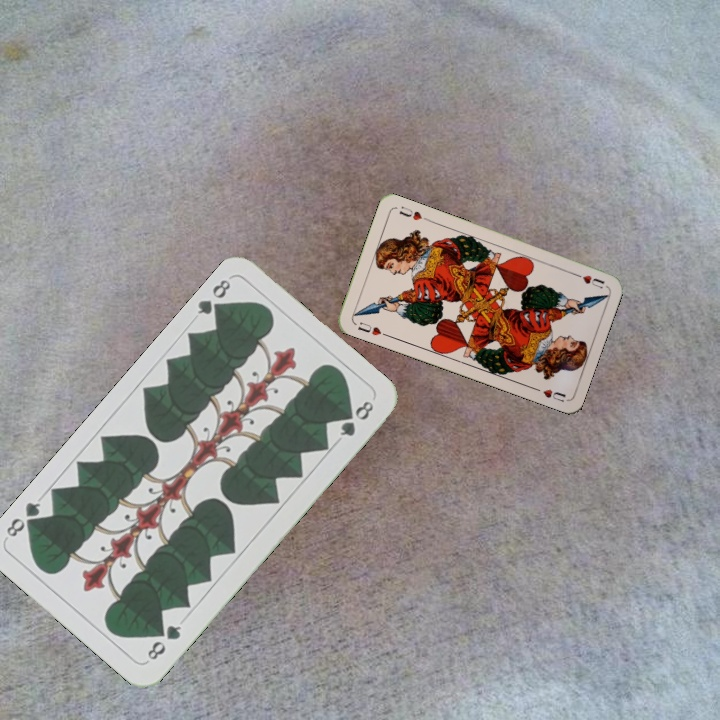G8: (193, 275, 234, 321), (143, 620, 184, 663)
HU: (569, 269, 607, 291), (354, 318, 390, 339)
